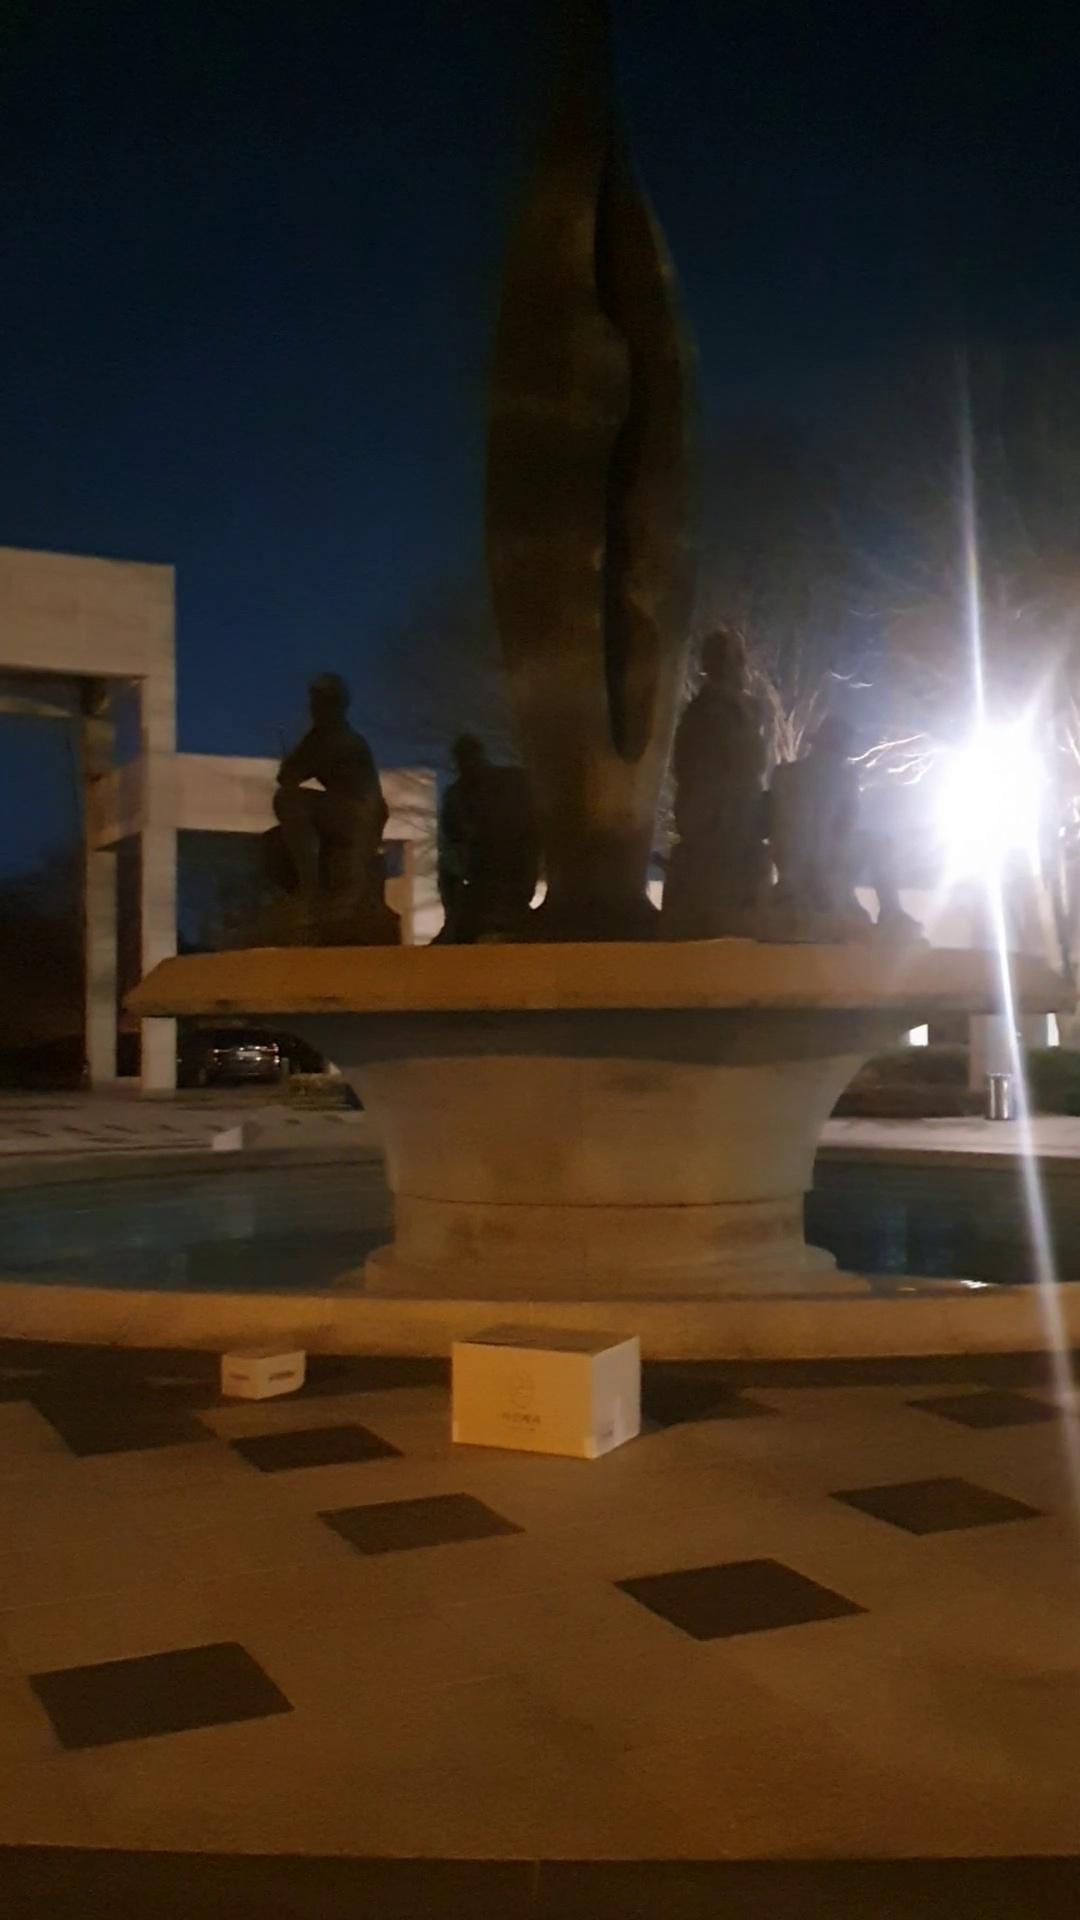Box: (438, 1331, 655, 1466), (203, 1325, 316, 1402)
